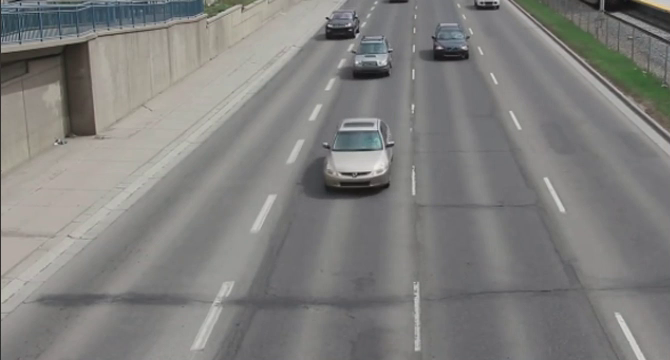car: (323, 112, 399, 196), (352, 33, 393, 82), (432, 22, 473, 61), (322, 9, 359, 40)
